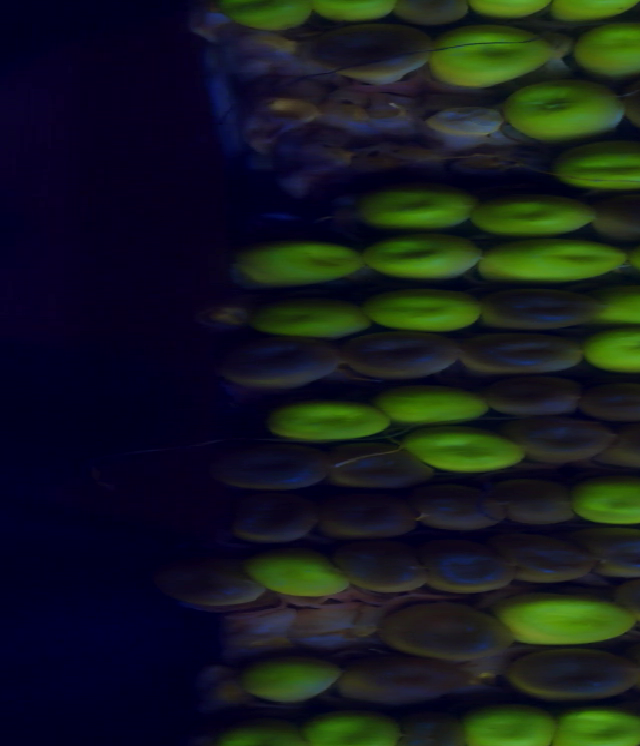fluorescent: (364, 222, 493, 283), (500, 593, 636, 649), (429, 29, 552, 87), (509, 80, 632, 135), (500, 235, 622, 290), (364, 287, 484, 342), (263, 394, 398, 438), (242, 243, 370, 288), (360, 188, 478, 236), (408, 431, 528, 477), (245, 301, 370, 343), (383, 386, 495, 432), (250, 556, 350, 598), (253, 652, 338, 701), (557, 145, 640, 193), (233, 1, 319, 46), (570, 24, 640, 79), (480, 198, 590, 231), (452, 710, 549, 746), (569, 477, 640, 524), (300, 715, 407, 746), (552, 711, 640, 746), (580, 328, 640, 372), (321, 1, 404, 25), (475, 1, 557, 25), (593, 290, 640, 328), (550, 1, 640, 19), (224, 724, 294, 746)
nonfluorescent: (371, 591, 513, 657), (313, 21, 437, 84), (508, 646, 634, 701), (347, 645, 475, 697), (339, 334, 464, 387), (220, 332, 336, 387), (160, 548, 260, 607), (208, 442, 336, 487), (419, 532, 517, 590), (470, 328, 582, 376), (481, 283, 606, 326), (230, 486, 322, 541), (419, 467, 505, 525), (322, 487, 423, 536), (505, 467, 584, 526), (333, 535, 430, 583), (481, 372, 578, 419), (512, 536, 592, 587), (337, 445, 423, 483), (523, 422, 613, 457), (581, 524, 640, 577), (395, 710, 466, 746), (577, 379, 640, 419), (596, 195, 640, 236)
